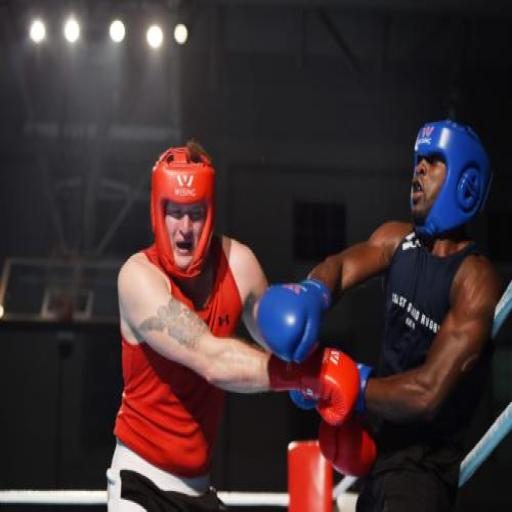boxing: (104, 138, 364, 510)
